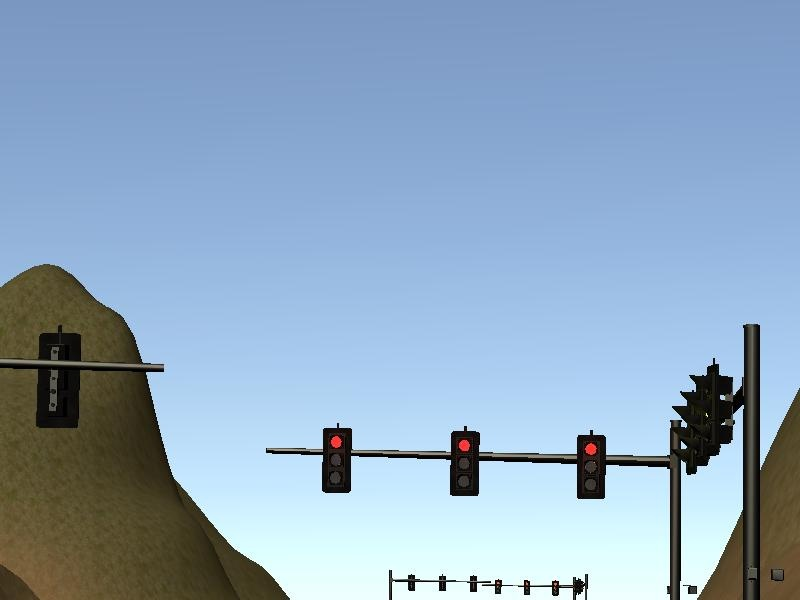red: (569, 428, 613, 502), (446, 425, 487, 499), (318, 421, 354, 499)
